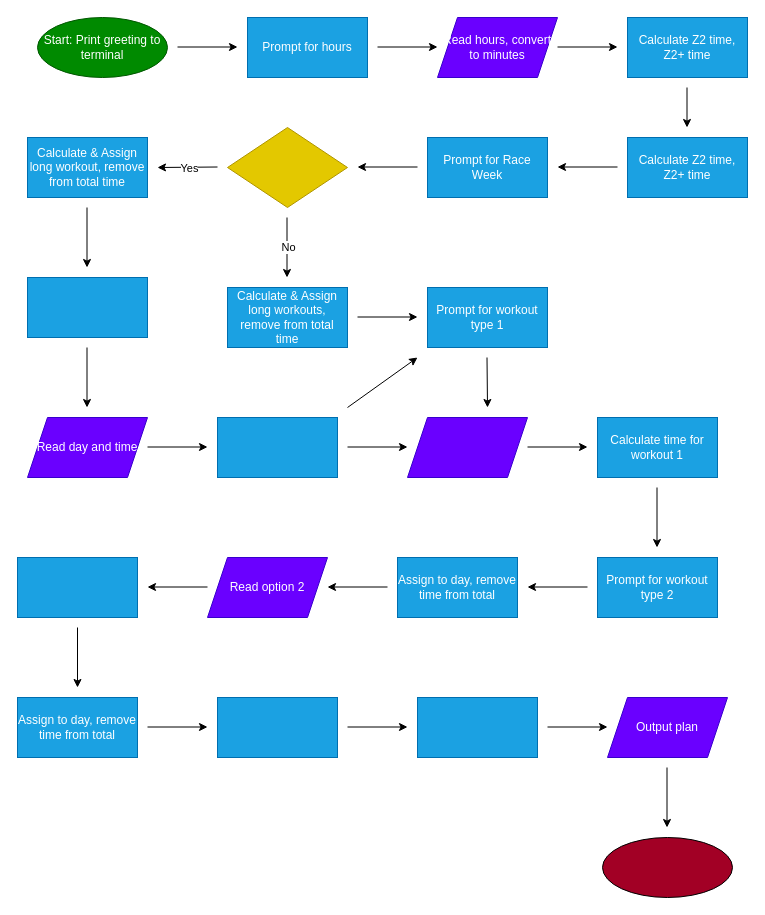
Some shapes in this 765 by 915 pixel diagram are drawn without their labels. Here are the shapes that lost their labels. From the top down, the centre of each, then its label:
(287,167): Race Week?
(87,307): Prompt for Day and time
(277,447): Assign day to plan, remove race time from total
(467,447): Read option 1
(77,587): Calculate time for workout 2
(277,727): Calculate Z2 days with remaining time
(477,727): Assign remaining days
(667,867): End
